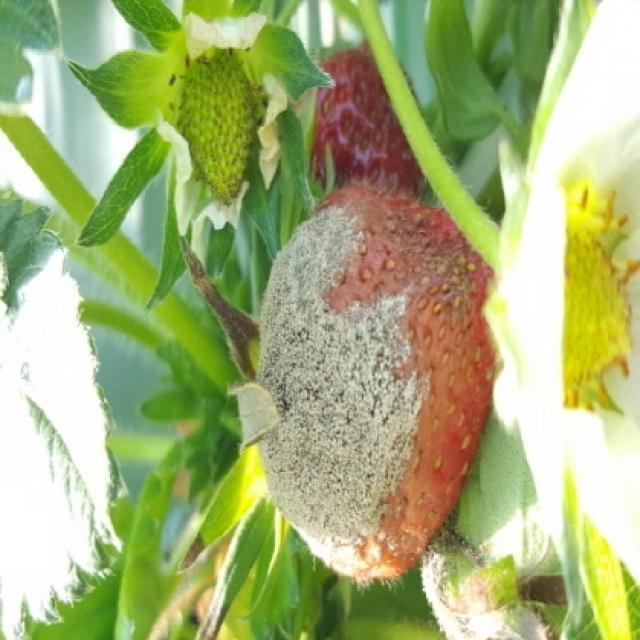Gray Mold: (227, 185, 498, 583)
